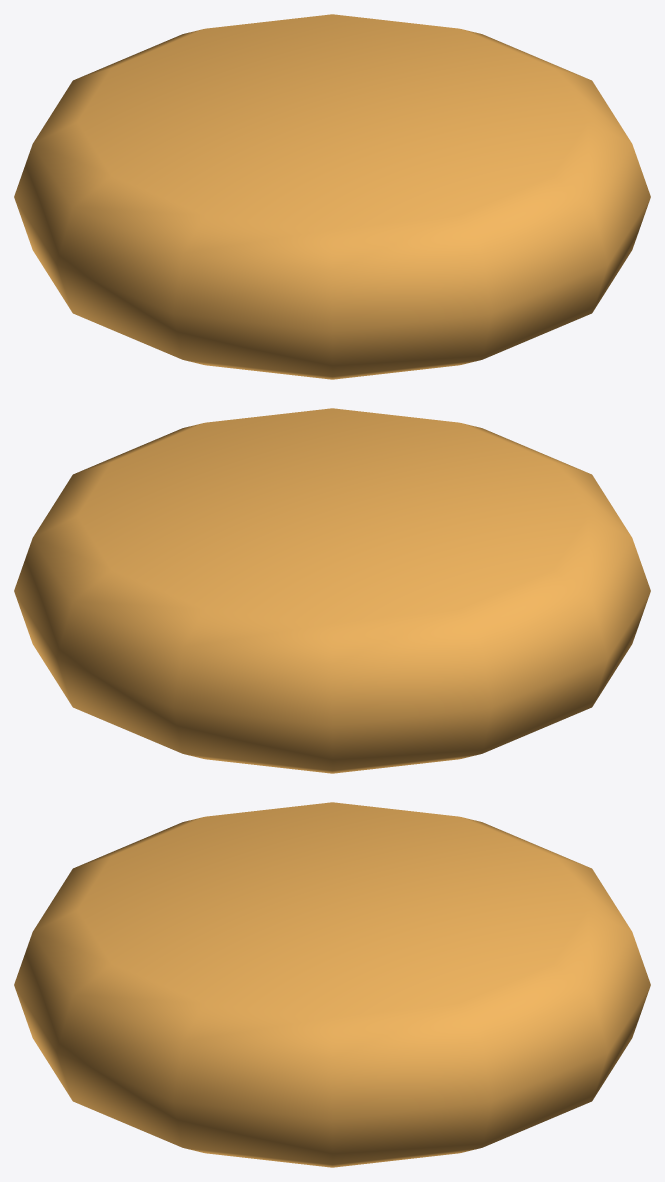
The model's file is FlatCircle_03.fbx.
3 views of the same model, one above another, from view 1: azimuth 30°, elevation 25°; view 2: azimuth 150°, elevation 25°; view 3: azimuth 270°, elevation 25° (orthographic).
Visible parts, largest first — view 1: FlatCircle_03; view 2: FlatCircle_03; view 3: FlatCircle_03.
Part boxes in pixels (x1,y1,x2,y2): FlatCircle_03: (14, 14, 650, 379); FlatCircle_03: (14, 408, 650, 773); FlatCircle_03: (14, 802, 650, 1167).
Bounding box in the file's own units: 375 × 97.5 × 375.
